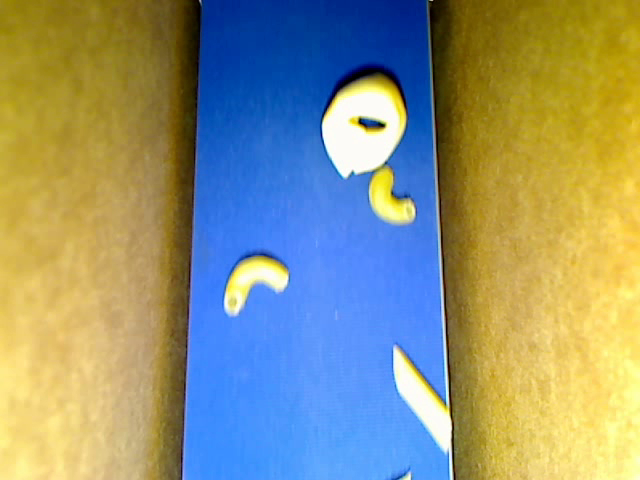elbow: (221, 256, 288, 317), (368, 166, 415, 223)
penne: (393, 343, 453, 453)
tortellini: (321, 75, 408, 179)
